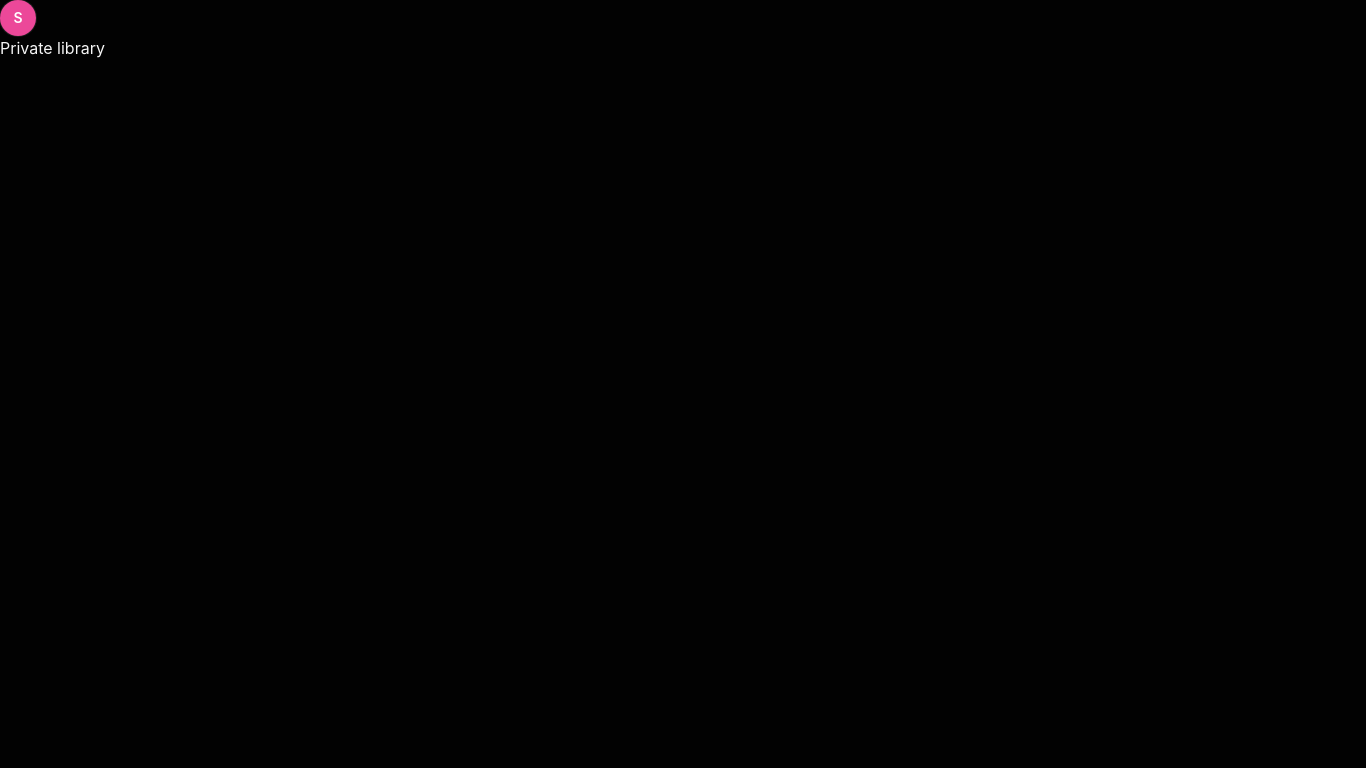
switching profile › deselects, clears the cache and the outgoing profile's session data
Click the button named "Account": (18,18) x1=0 y1=0 x2=36 y2=36
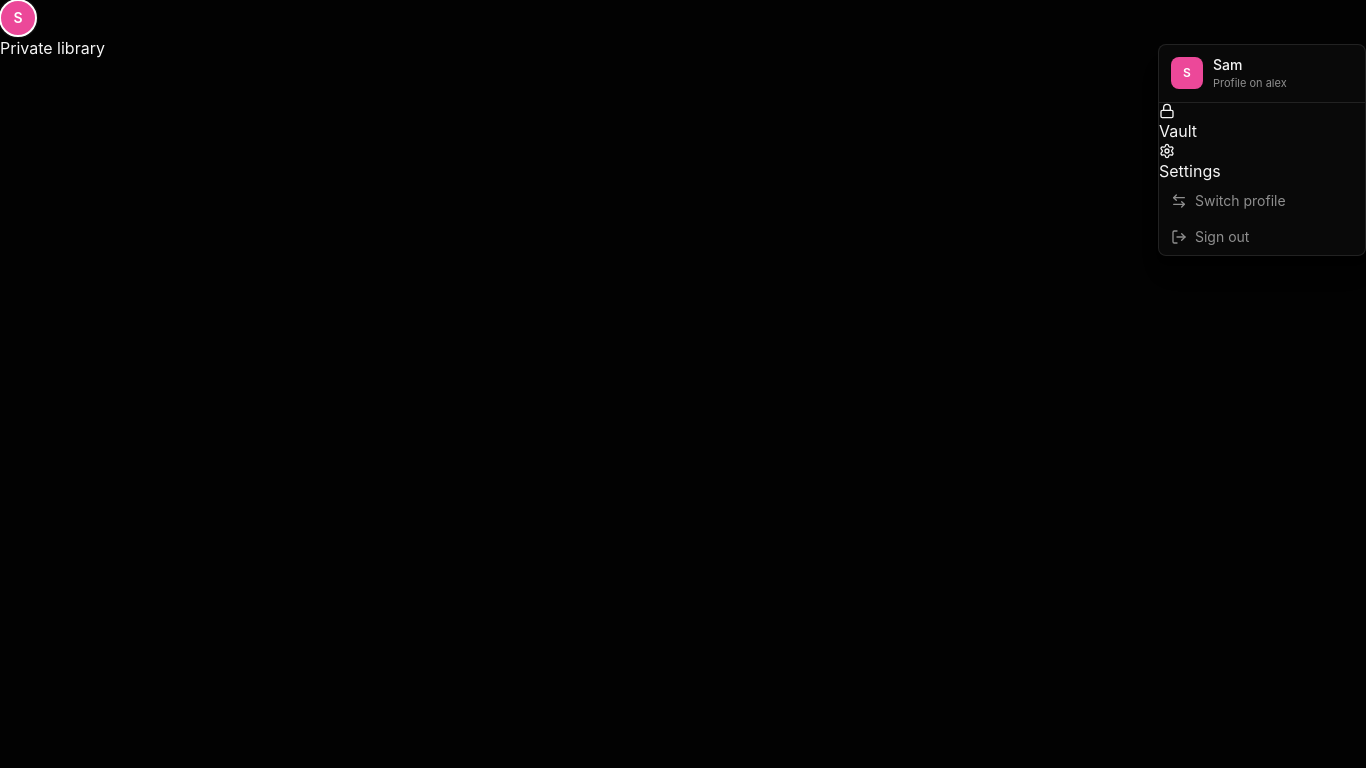
Expected: the text "Sam" is shown, x1=1213 y1=56 x2=1242 y2=73
Click the menu item "Switch profile": (1262,200) x1=1159 y1=182 x2=1365 y2=218
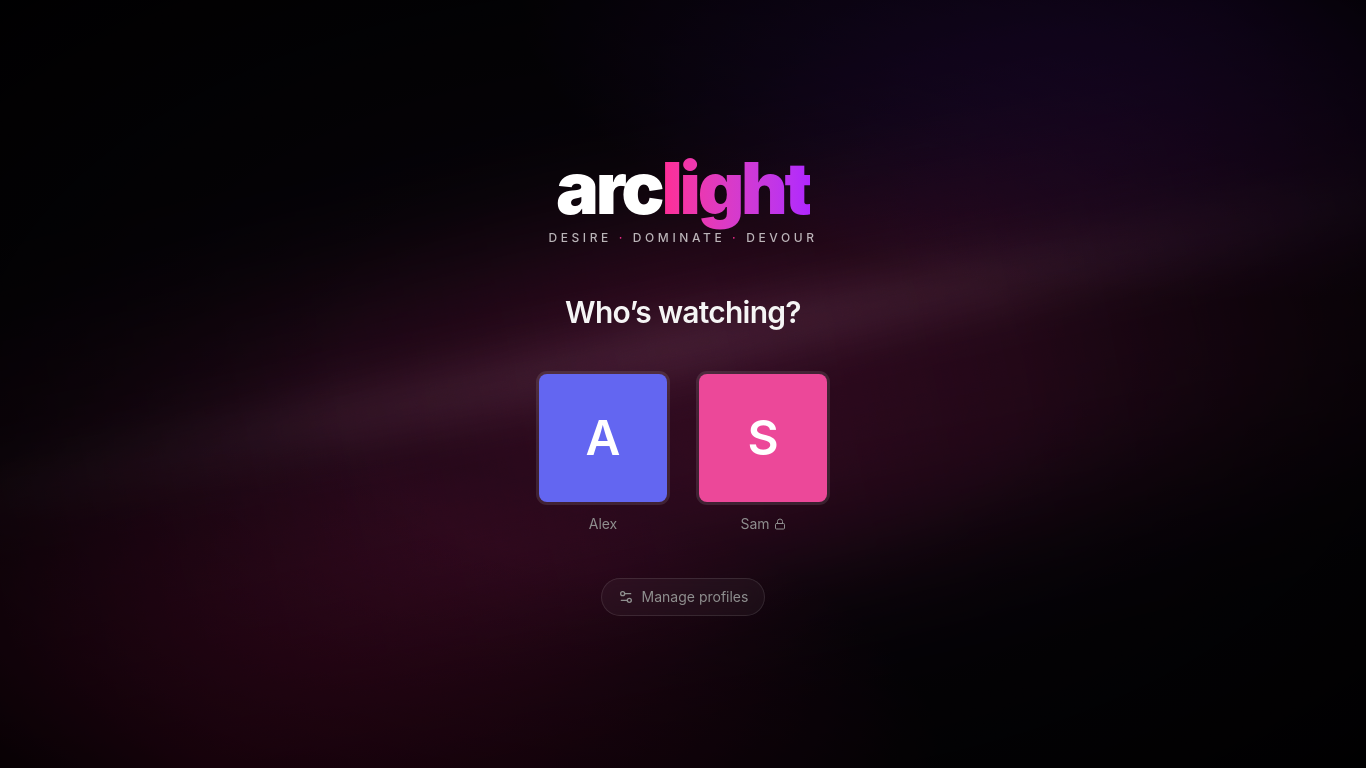
Expected: the heading "Who’s watching?" is shown, x1=565 y1=294 x2=801 y2=330
